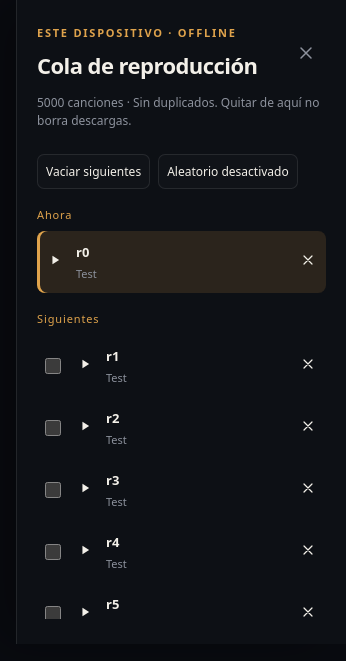
Test: queue play selects the same queue and renders only 50 upcoming rows from 5000
This screenshot has width=346, height=661.
What coordinates should you click on to do the following:
click the button named "Reproducir r0"
I would click on:
 (55, 262)
Its box is [41,246,69,278].
(page scrolled)
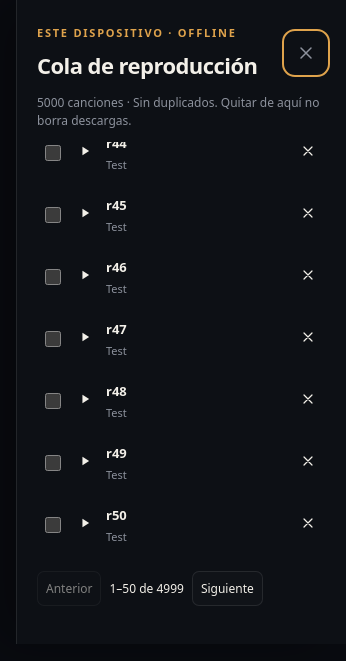
What coordinates should you click on to do the following:
click the button "Siguiente"
I would click on:
 (227, 589)
Its box is [192,571,263,606].
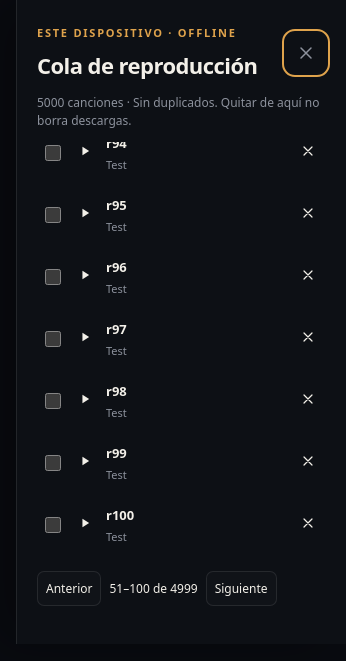
Check: the text "51–100 de 4999" is shown, box [110,580,198,598]
